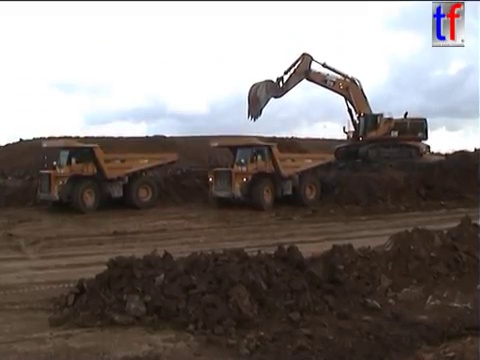excavator: (244, 50, 431, 165)
truck: (34, 136, 180, 214), (204, 135, 336, 210)
